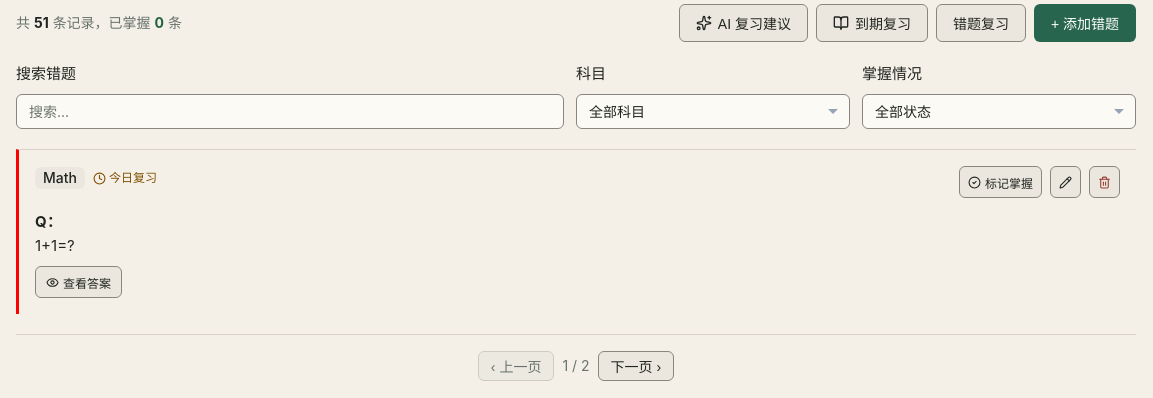
MistakeBook Component › returns to the last valid page after 标记掌握 removes the only result on page two
This screenshot has width=1153, height=398.
Expected: the text "1 / 2" is shown, [562,356,590,376]
Select "Math" in the dropdown with test id "mistake-subject-filter": {"x": 713, "y": 112} [576,94,850,129]
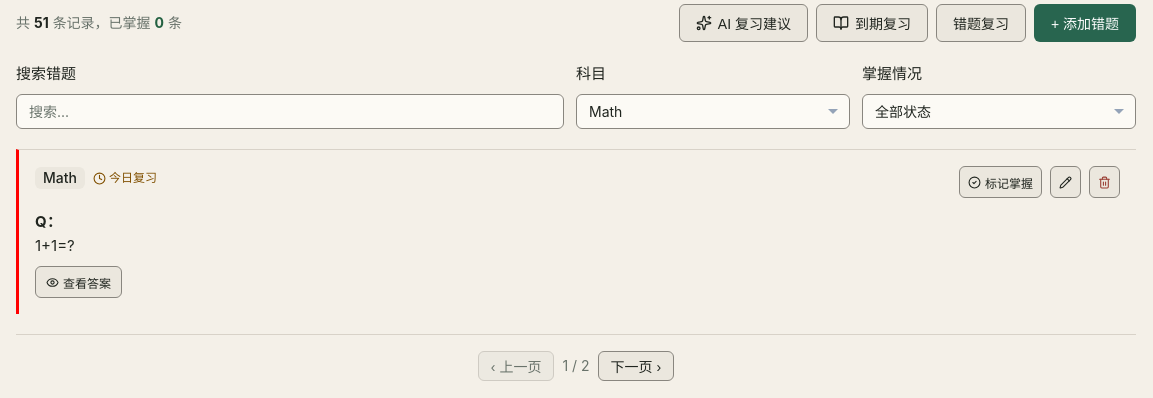
Select "未掌握" in the dropdown with test id "mistake-status-filter": {"x": 999, "y": 112} [862,94,1136,129]
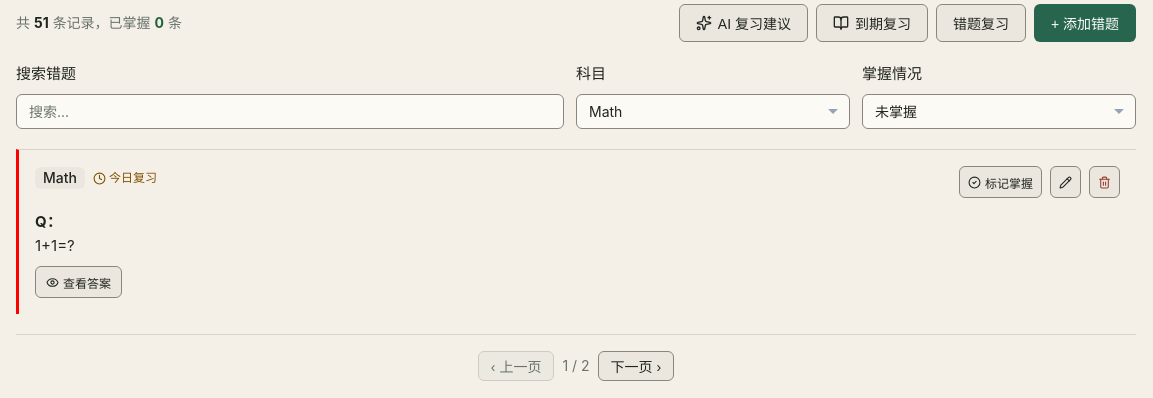
Click the button "下一页 ›": {"x": 636, "y": 366} [598,351,674,381]
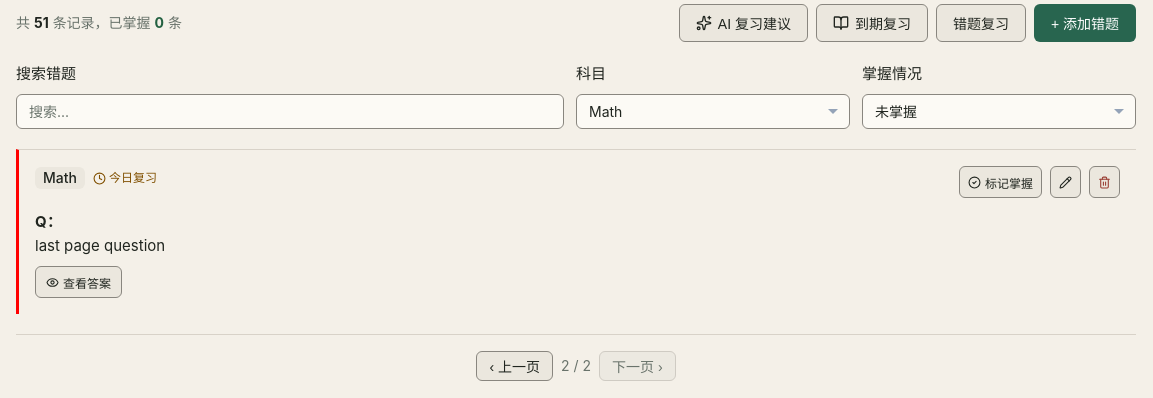
Now the text "last page question" is shown, box [35,236,165,255]
Click the button "标记掌握": {"x": 1000, "y": 182} [959,166,1042,198]
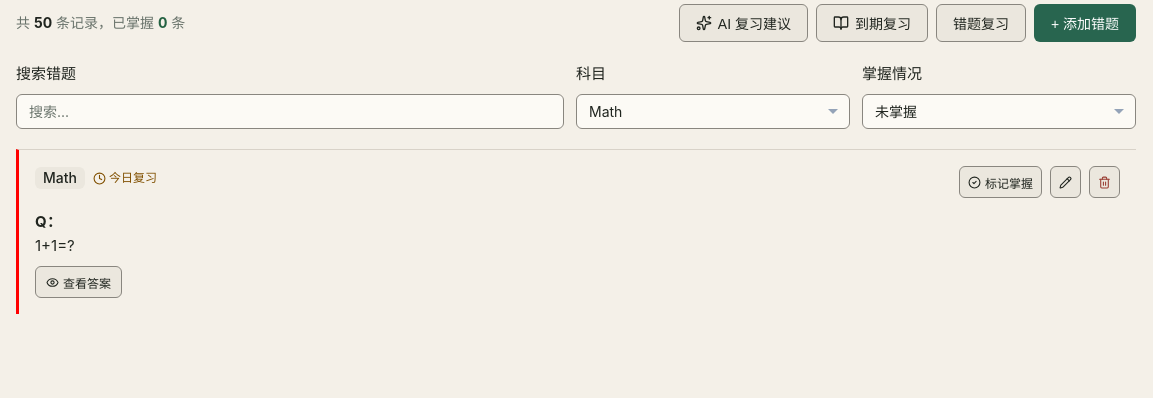
Now the text "1+1=?" is shown, box [35,236,75,255]
Now the text "last page question" is gone
Now the navigation bar "错题分页" is gone
